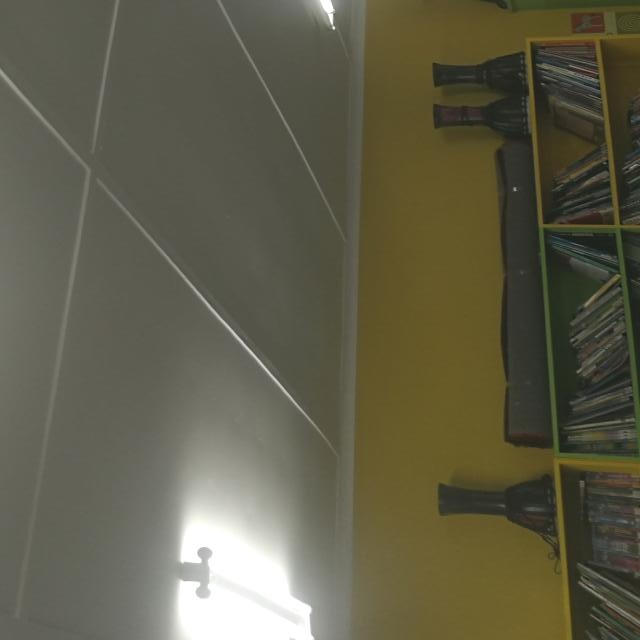fluorescent tube: (181, 545, 343, 637), (237, 0, 358, 43)
